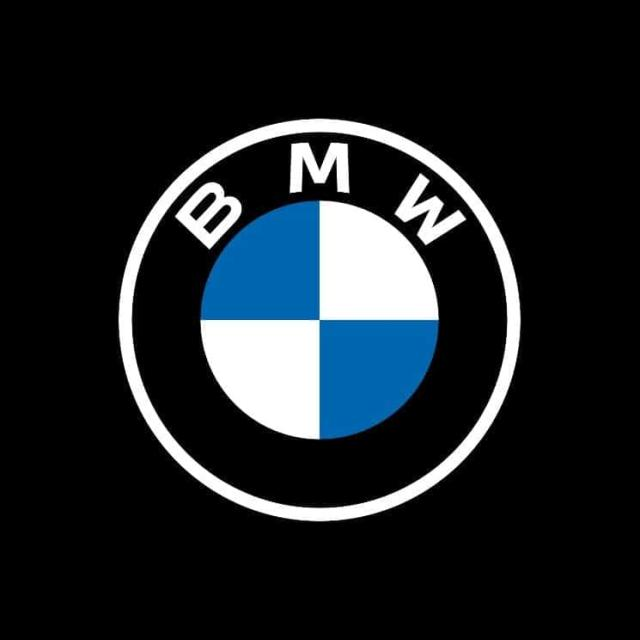bmw: (111, 115, 526, 525)
